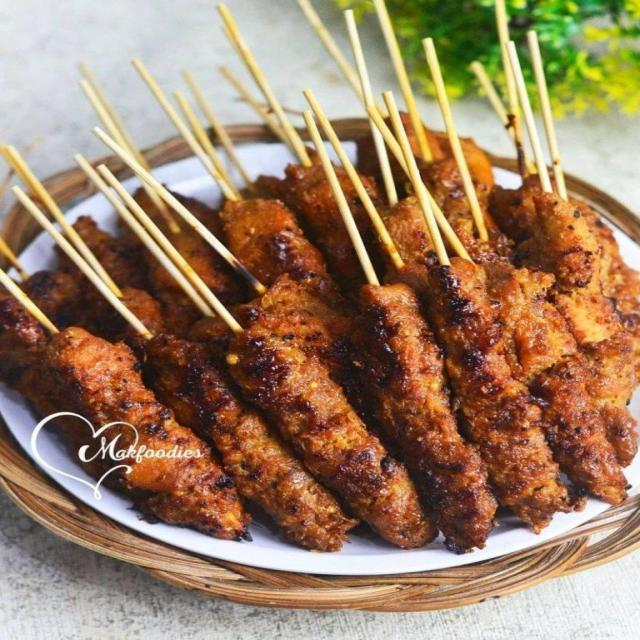Sate: (39, 57, 611, 544)
